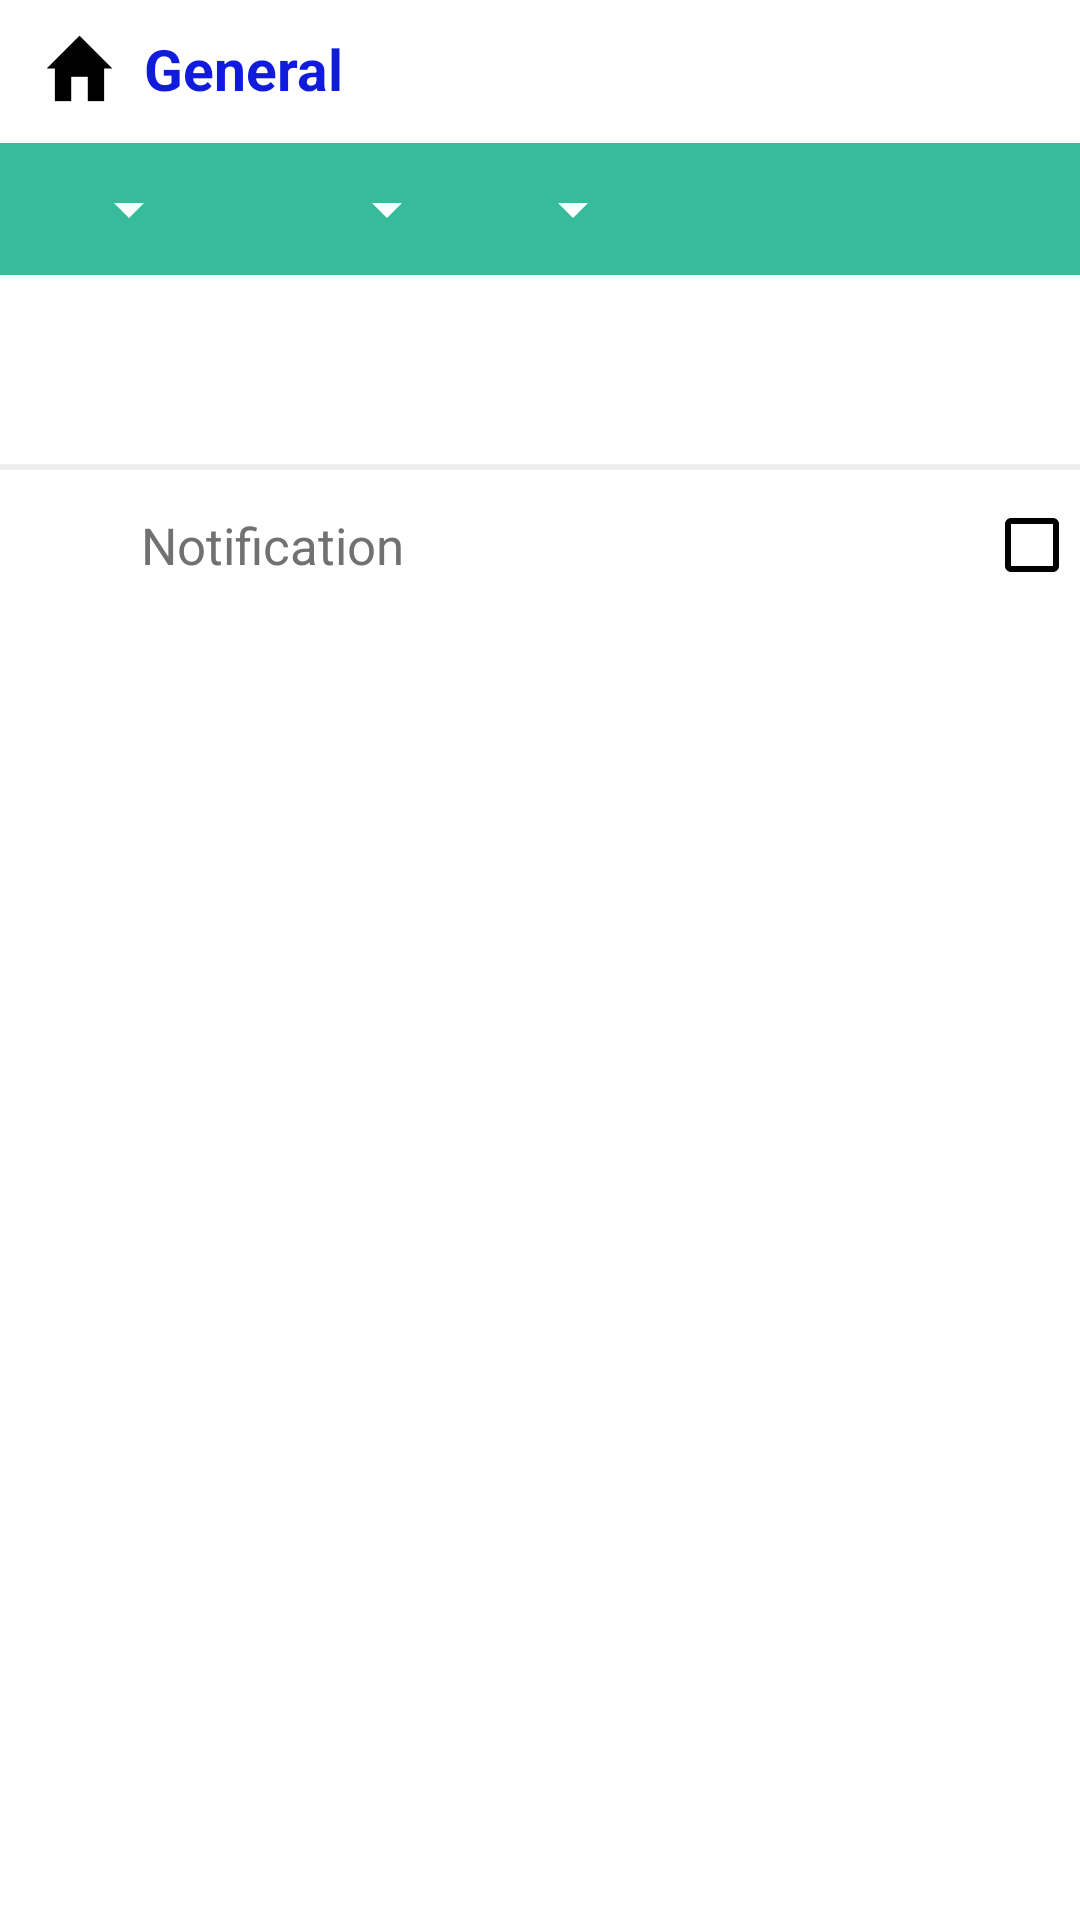

Where to tap for icons on this 1080 x 1920 app screen, as (x=x, y=y):
settinghome: (x=79, y=69)
